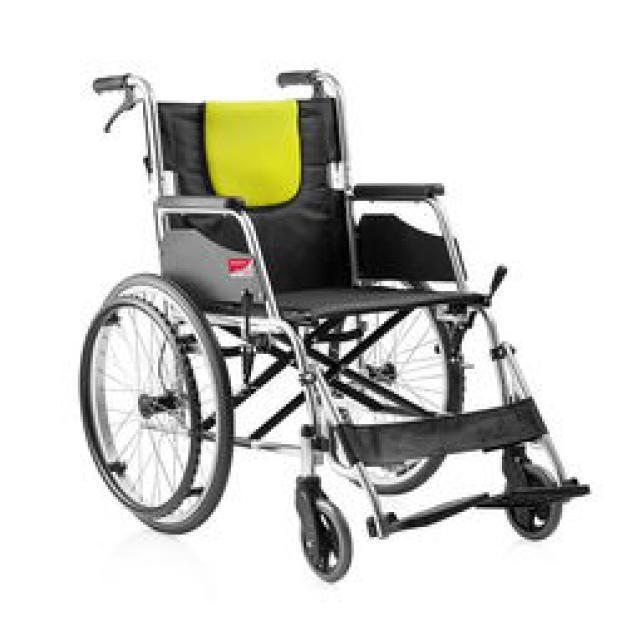wheelchairs: (75, 62, 583, 576)
